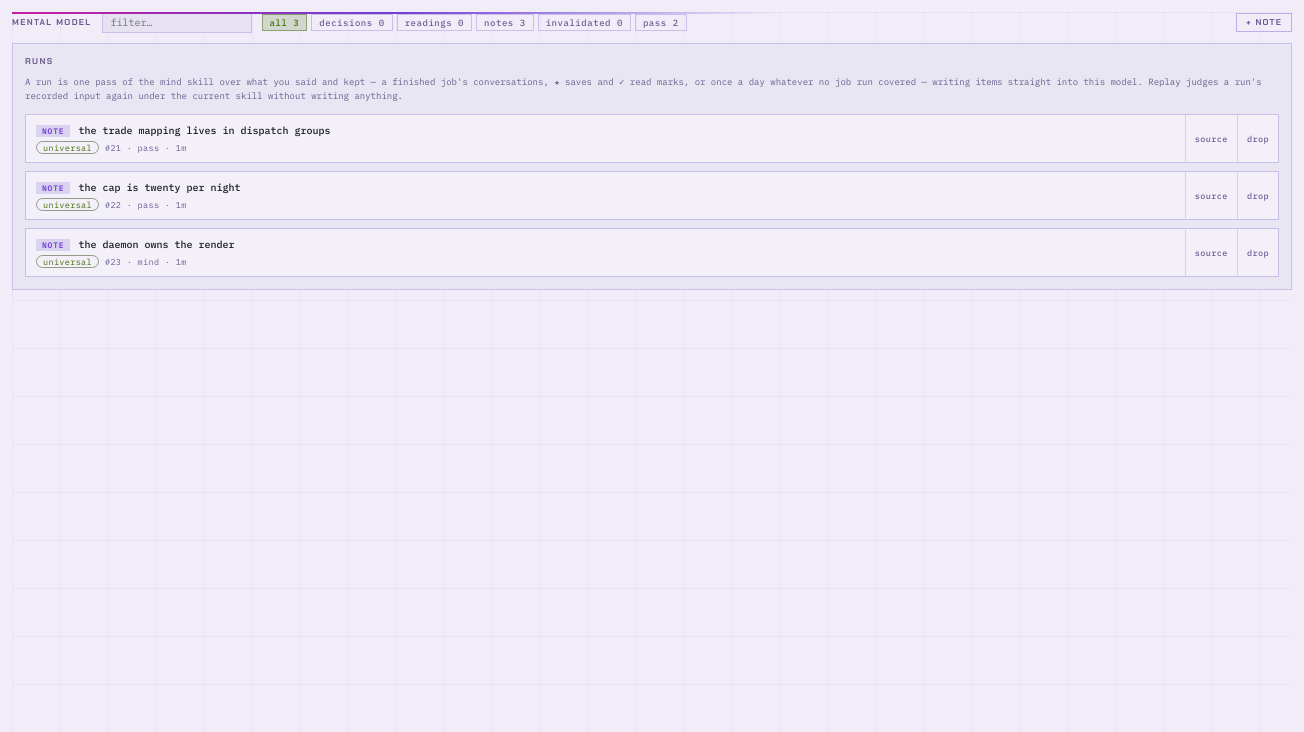
Test case: MentalModelPane — the mind pass › narrows the rows to the pass filter
The width and height of the screenshot is (1304, 732).
expect the text "the trade mapping lives in dispatch groups" is shown: met, box top-left (78, 123), bottom-right (330, 138)
Click the button "pass 2".
click(661, 22)  # box top-left (635, 14), bottom-right (687, 31)
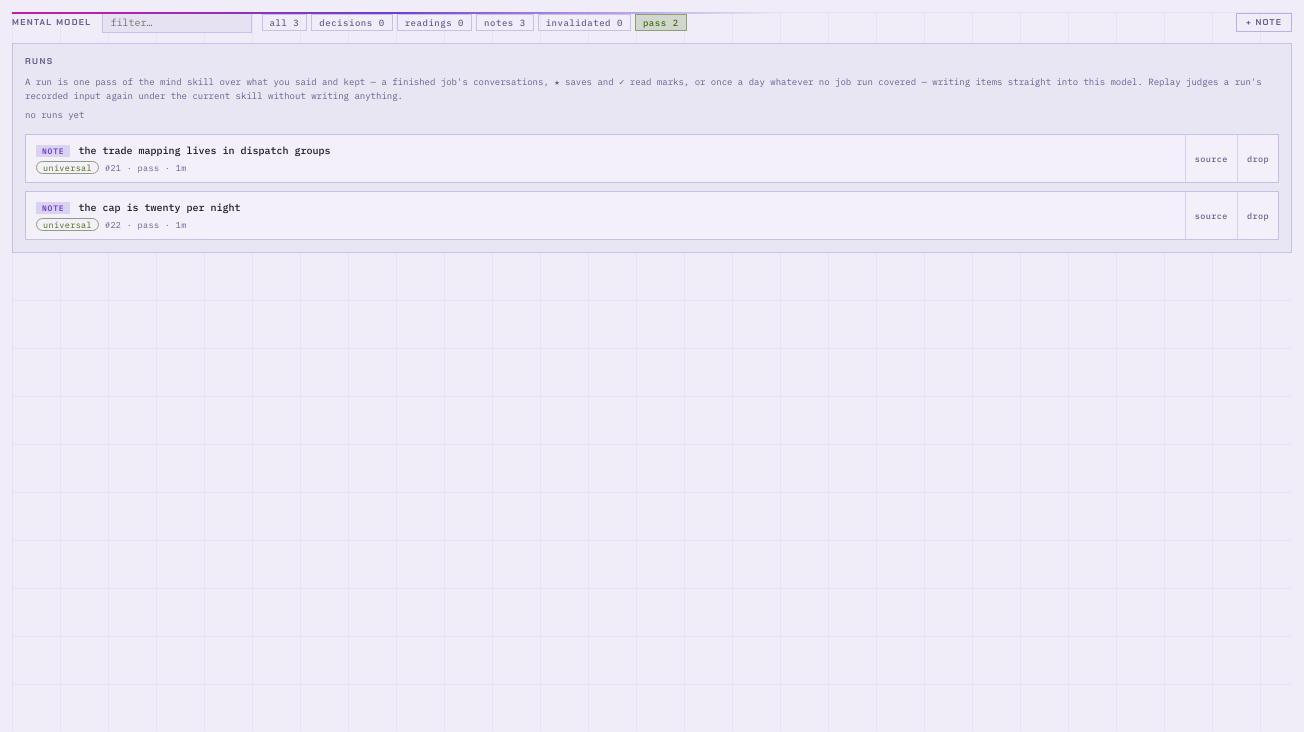
expect the text "the trade mapping lives in dispatch groups" is shown: met, box top-left (78, 142), bottom-right (330, 158)
expect the button "the daemon owns the render" is gone: met
